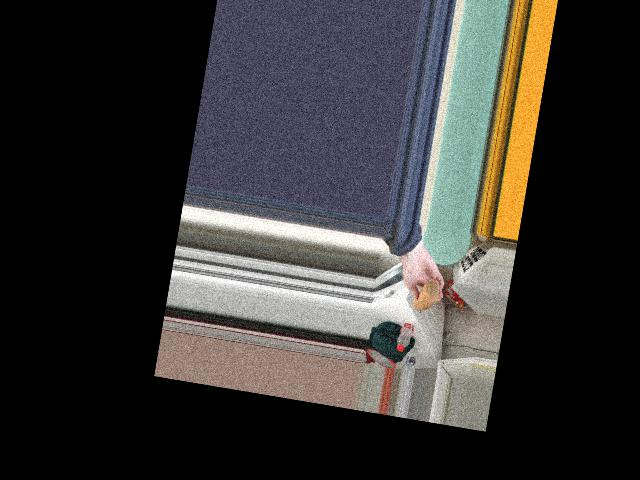sweet_potato: (413, 281, 440, 313)
